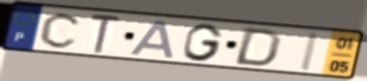A: (128, 19, 178, 60)
C: (38, 11, 85, 50)
D: (231, 26, 285, 68)
G: (181, 22, 226, 63)
I: (296, 30, 323, 73)
T: (88, 12, 123, 55)
